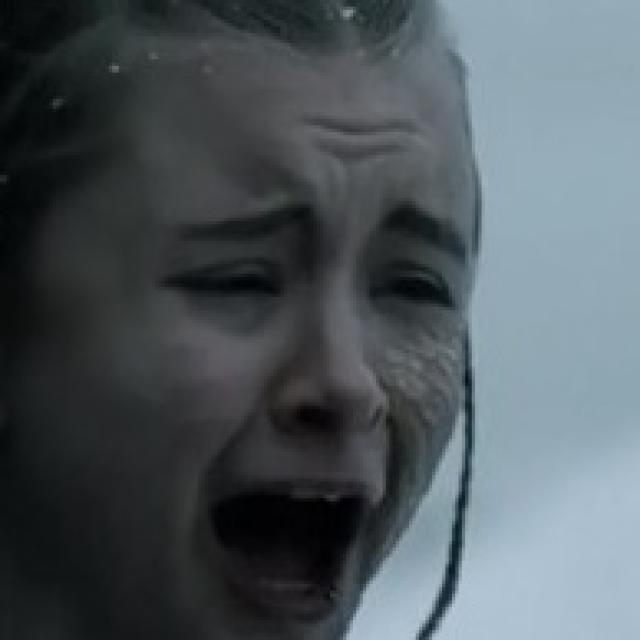Depress: (7, 25, 482, 637)
